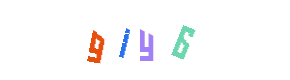6: (142, 0, 222, 80)
G: (56, 0, 136, 80)
I: (99, 0, 179, 80)
Y: (105, 0, 185, 80)
